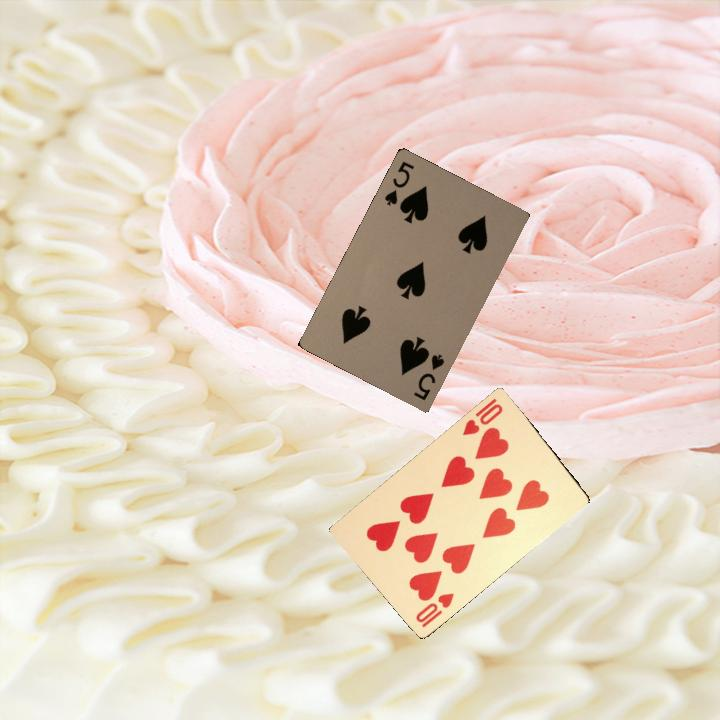10h: (459, 394, 505, 438), (412, 589, 457, 630)
5s: (409, 350, 448, 403), (380, 157, 417, 208)
